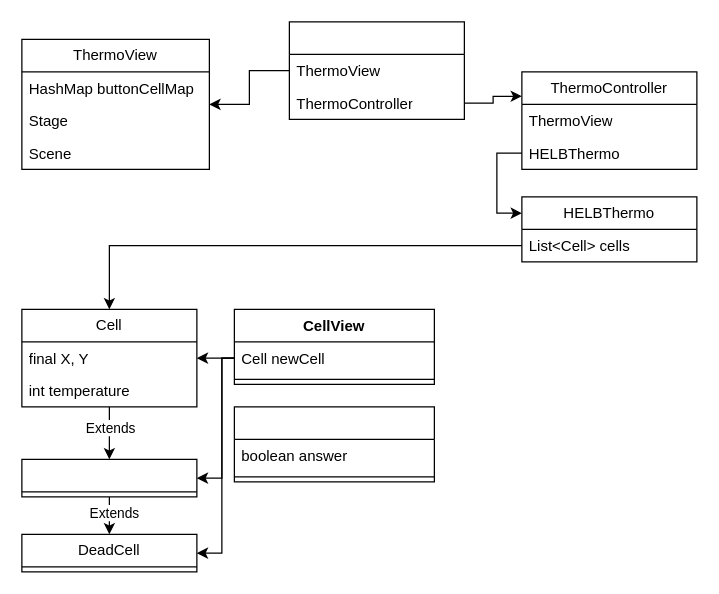
Image size: 719x594. Some labels were removed from this diagram. The box of each missing label's shape, as (x1, y1, x2, y2) in pixels:
ConfirmModificationView: (233, 406, 434, 482)
HeatSourceCell: (21, 458, 197, 497)
Main.java: (288, 21, 464, 119)
